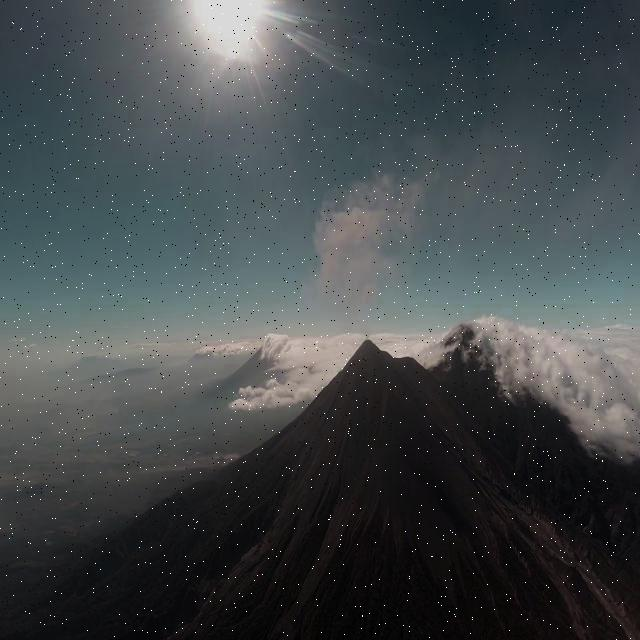Plume: (308, 152, 431, 298)
Summit: (340, 336, 394, 370)
